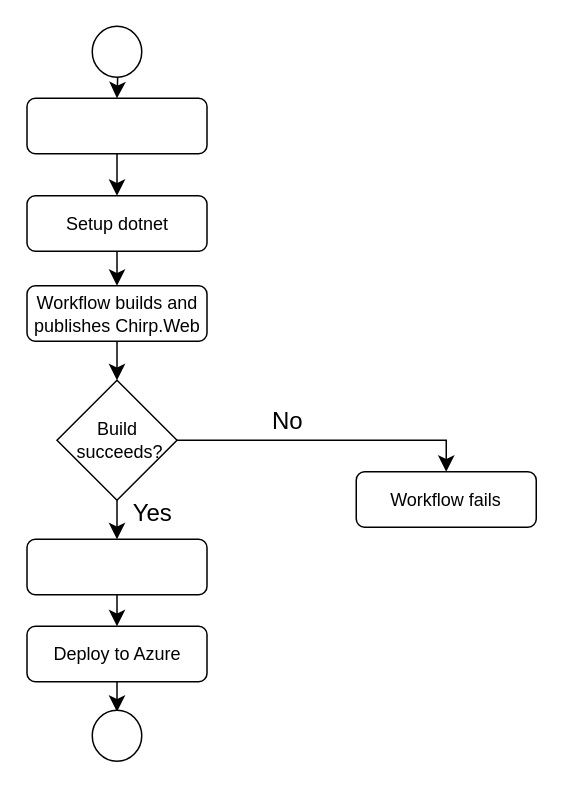
The diagram is 563 pixels wide and 788 high, and some of its shapes have lost their labels. The shapes that lost their labels are listed below. From the top down, each one's centre as x and y in pixels, then its label:
At (116,125): "Triggers on push to main branch".
At (116,566): "Upload artifact for deployment job".
